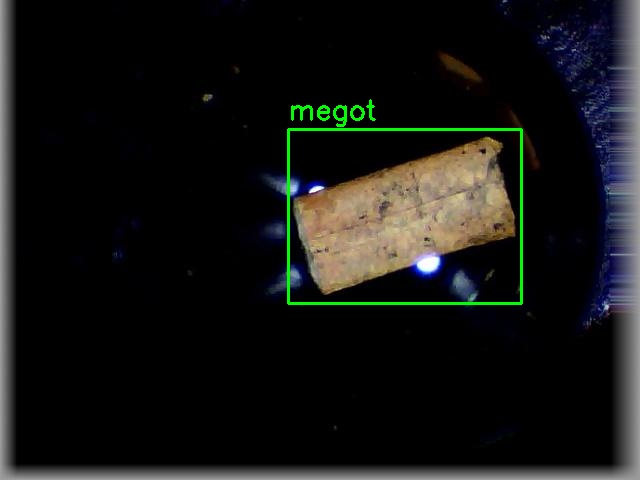megot: (288, 129, 521, 303)
